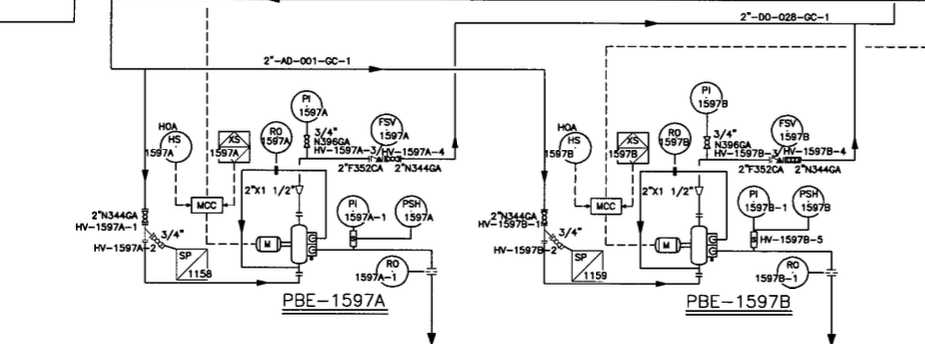Instrument-offset: (751, 254, 813, 292), (134, 128, 200, 163), (351, 254, 413, 291), (736, 182, 788, 221), (335, 192, 389, 229), (544, 130, 598, 166), (393, 192, 441, 231), (790, 183, 837, 220), (687, 79, 733, 116), (367, 110, 413, 147), (286, 88, 333, 124), (656, 117, 695, 159), (768, 111, 813, 147), (257, 119, 295, 155)
Instrument-square-offset: (209, 128, 255, 167)
